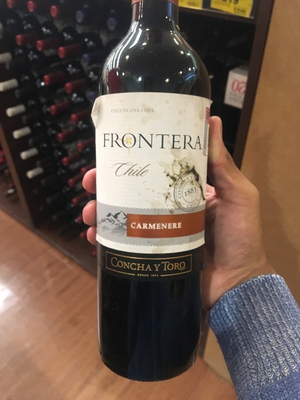frontera carmenere: (93, 8, 213, 400)
